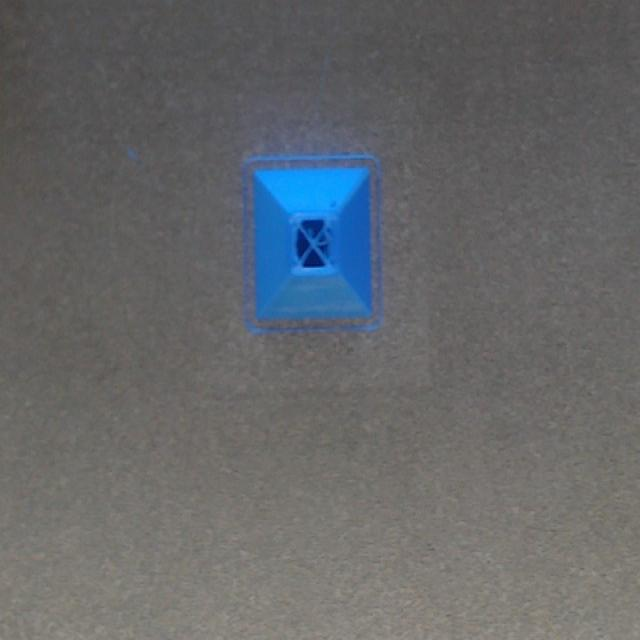mistake: (289, 212, 337, 276)
